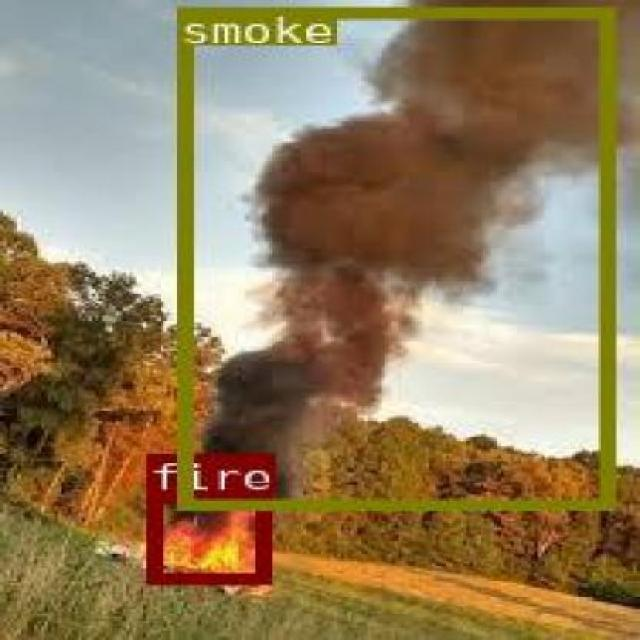CIV_Plane: (146, 492, 266, 580)
Fire: (146, 492, 266, 580)
Smoke: (176, 6, 612, 506)
